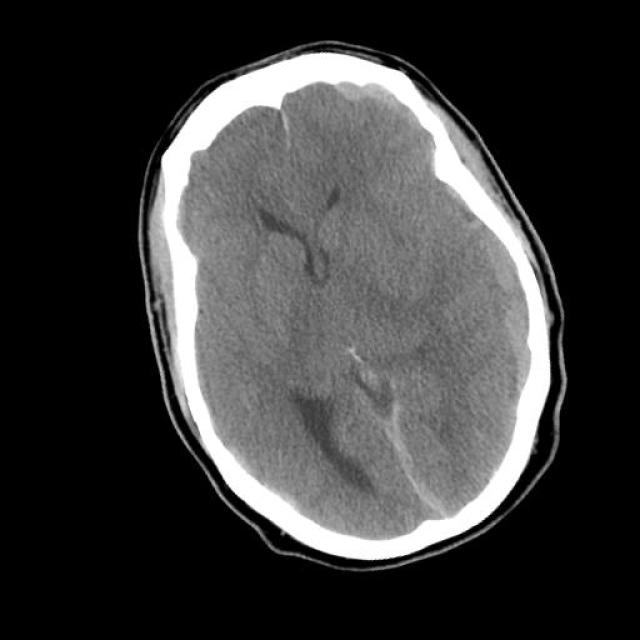Subdural: (324, 46, 450, 174)
